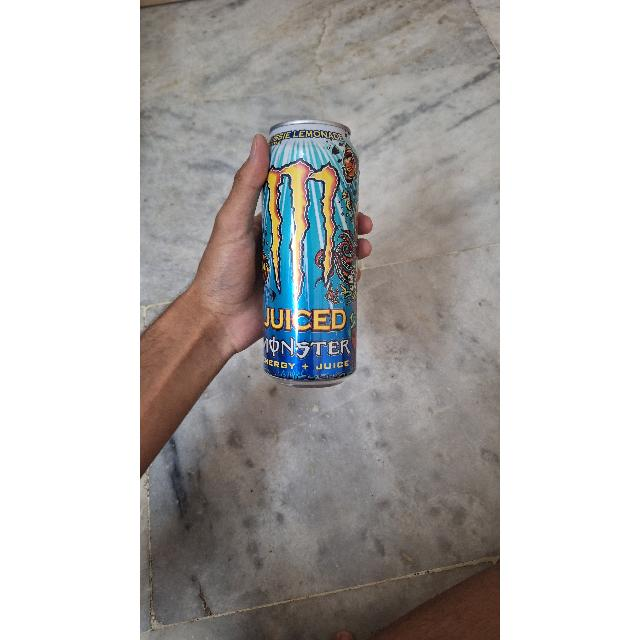Monster Aussie Lemonade: (260, 119, 362, 389)
